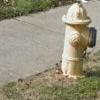Hydrant: (56, 2, 97, 80)
